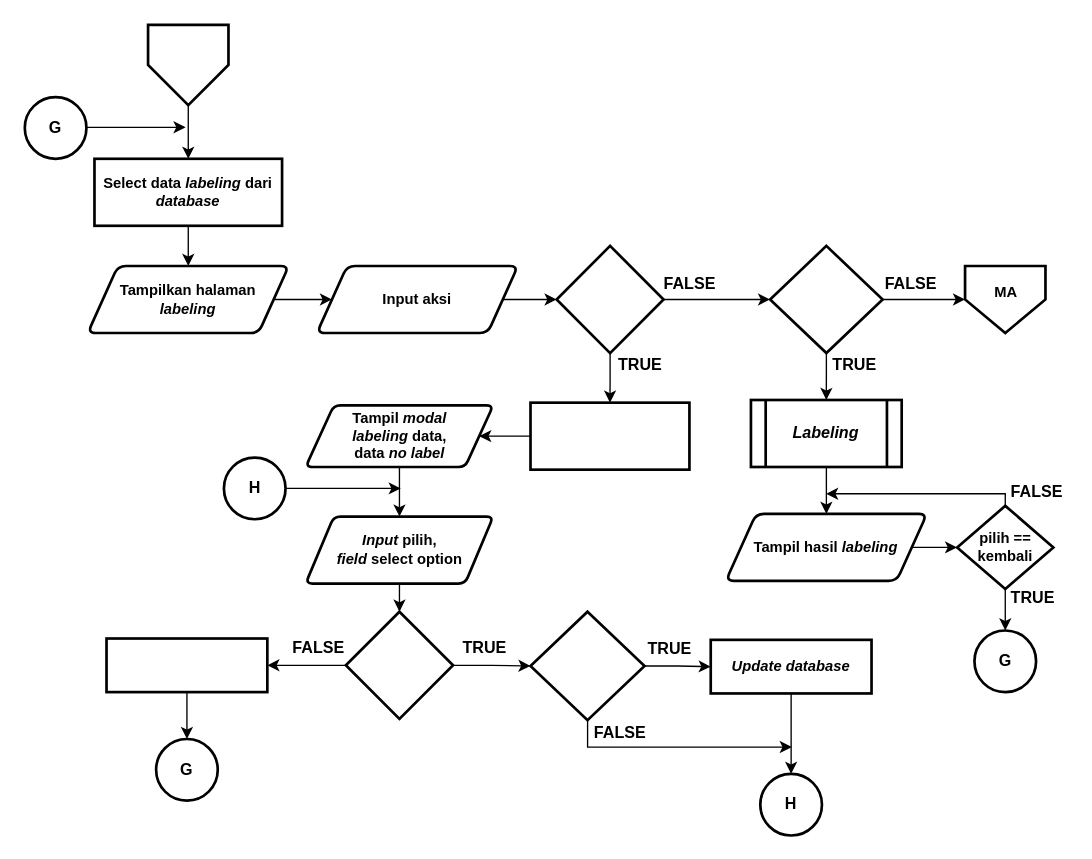
Some shapes in this 1092 by 859 pixel diagram are drawn without their labels. The centre of each missing label's shape, as x and y in pixels:
aksi == labeling (kamus): the point at 825,299
aksi == labeling (manual): the point at 609,299
LA: the point at 187,64
option == positif or negatif: the point at 586,665
pilih != close: the point at 399,665
Select data pre-processing (no label) dari database: the point at 609,435
Tutup modal labeling data: the point at 186,664
